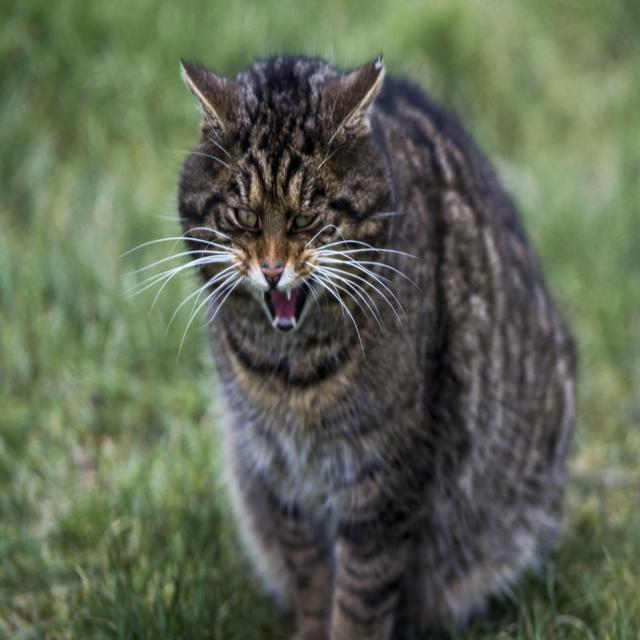Cat: (115, 47, 577, 639)
